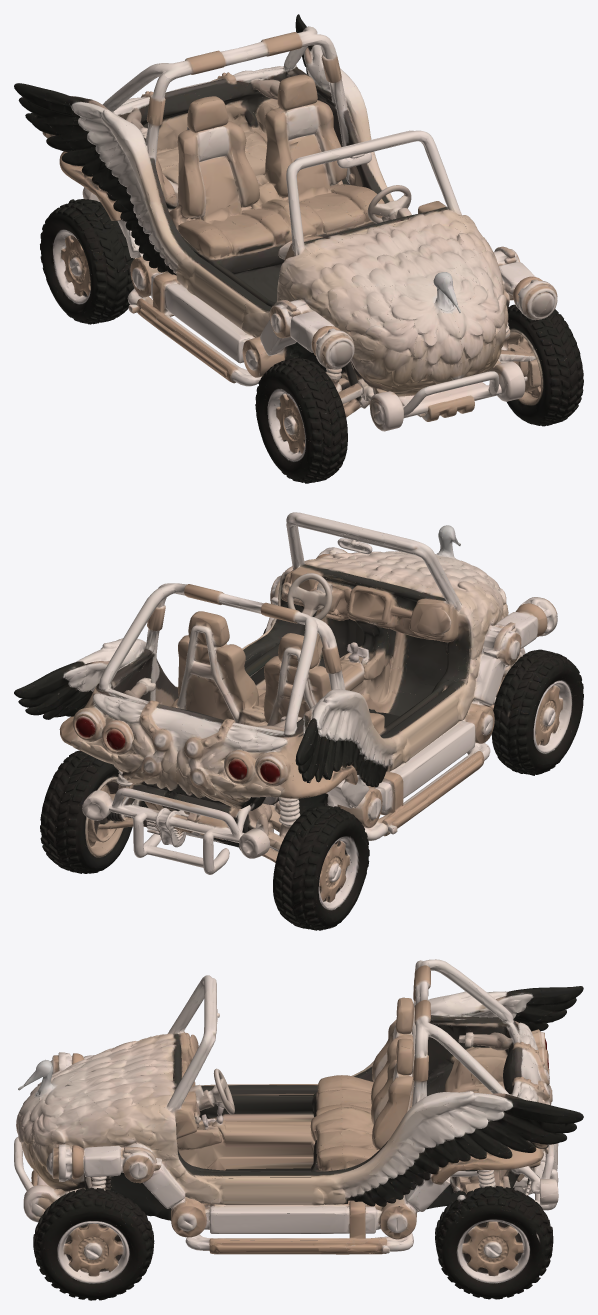
Rendered from buggy.glb.
The picture shows the model from 3 angles, top to bottom: view 1: azimuth 30°, elevation 25°; view 2: azimuth 150°, elevation 25°; view 3: azimuth 270°, elevation 25°; orthographic projection. The views are drawn at different scales.
Visible parts, largest first — view 1: Carroceria, Roda_TD, Roda_DD, Roda_DE, Volante; view 2: Carroceria, Roda_TD, Roda_DD, Roda_TE, Volante; view 3: Carroceria, Roda_DE, Roda_TE, Volante.
Boxes of the visible parts, box(x1,y1,x2,y2) form: Carroceria: box(14, 14, 557, 431); Roda_TD: box(40, 199, 134, 324); Roda_DD: box(255, 358, 347, 483); Roda_DE: box(506, 304, 583, 426); Volante: box(367, 185, 411, 223); Carroceria: box(14, 512, 557, 892); Roda_TD: box(273, 805, 369, 930); Roda_DD: box(491, 649, 583, 775); Roda_TE: box(40, 750, 130, 873); Volante: box(287, 573, 332, 619); Carroceria: box(14, 959, 583, 1254); Roda_DE: box(33, 1188, 154, 1300); Roda_TE: box(435, 1186, 553, 1299); Volante: box(213, 1068, 234, 1114).
Bounding box in the file's own units: 2.29 × 2.09 × 4.25.
1 material, 1 textured.
